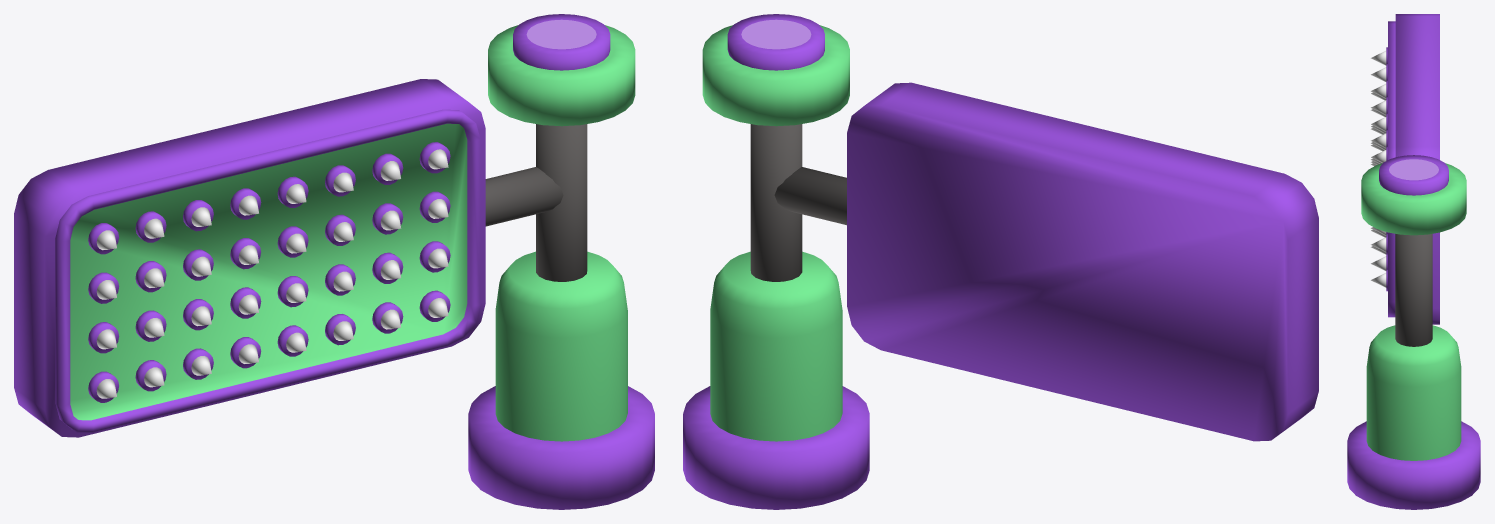
The model's file is Obstacle 13 V4.fbx.
3 renders of one model, left to right at view 1: azimuth 30°, elevation 25°; view 2: azimuth 150°, elevation 25°; view 3: azimuth 270°, elevation 25°, orthographic. The views are drawn at different scales.
Parts seen in each view (by area): view 1: O13 Part 1, O13 Part 2; view 2: O13 Part 1, O13 Part 2; view 3: O13 Part 2, O13 Part 1.
Part boxes in pixels (x1,y1,x2,y2): O13 Part 1: [14, 79, 587, 437]; O13 Part 2: [468, 14, 654, 509]; O13 Part 1: [750, 82, 1318, 441]; O13 Part 2: [683, 14, 869, 509]; O13 Part 2: [1347, 155, 1480, 509]; O13 Part 1: [1371, 14, 1439, 346].
Bounding box in the file's own units: 170 × 116 × 45.05.
1 material, 1 textured.
